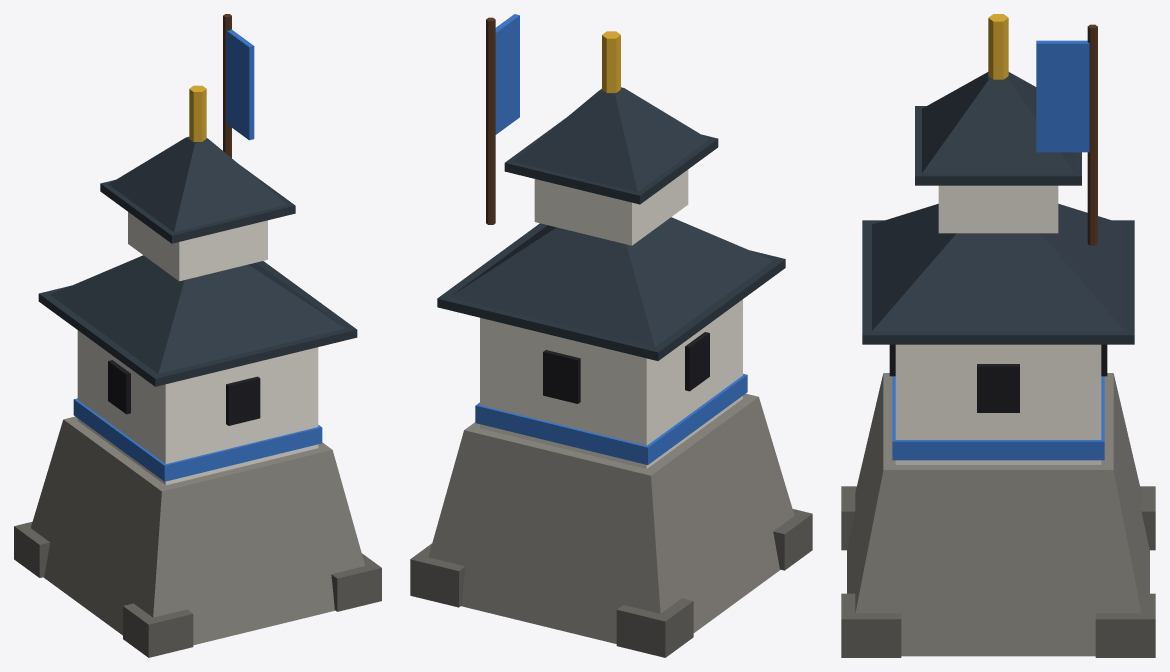
The model's file is yagura.glb.
The picture shows the model from 3 angles, left to right: view 1: azimuth 30°, elevation 25°; view 2: azimuth 150°, elevation 25°; view 3: azimuth 270°, elevation 25°; orthographic projection. The views are drawn at different scales.
Parts seen in each view (by area): view 1: Cone, Cone.001, Cube.004, Cone.002, Cube.011, Cube.010, Cube.005, Cube.002, Cube.013, Cube.012, Cube.003, Cube.007 (+4 smaller); view 2: Cone, Cone.001, Cube.004, Cone.002, Cube.011, Cube.010, Cube.005, Cube.001, Cube.012, Cube.013, Cube, Cylinder.001 (+4 smaller); view 3: Cone, Cone.001, Cube.004, Cone.002, Cube.010, Cube.013, Cube.011, Cube.005, Cube, Cube.003, Cube.012, Cylinder.001 (+4 smaller).
Boxes of the visible parts, box(x1,y1,x2,y2) form: Cone: box(31, 416, 365, 645); Cone.001: box(50, 255, 345, 373); Cube.004: box(77, 330, 318, 485); Cone.002: box(108, 136, 286, 232); Cube.011: box(128, 212, 267, 281); Cube.010: box(38, 261, 357, 386); Cube.005: box(73, 398, 322, 481); Cube.002: box(123, 603, 193, 657); Cube.013: box(226, 29, 254, 140); Cube.012: box(100, 165, 295, 243); Cube.003: box(331, 553, 381, 611); Cube.007: box(226, 376, 260, 425); Cone: box(428, 393, 794, 643); Cone.001: box(450, 217, 772, 347); Cube.004: box(480, 299, 742, 468); Cone.002: box(513, 87, 709, 191); Cube.011: box(534, 169, 688, 245); Cube.010: box(437, 223, 785, 360); Cube.005: box(475, 373, 747, 464); Cube.001: box(616, 598, 693, 657); Cube.012: box(504, 119, 718, 204); Cube.013: box(495, 14, 519, 134); Cube: box(410, 543, 465, 607); Cylinder.001: box(486, 17, 495, 224); Cone: box(847, 373, 1149, 656); Cone.001: box(872, 203, 1124, 331); Cube.004: box(895, 344, 1101, 464); Cone.002: box(922, 72, 1074, 173); Cube.010: box(862, 220, 1134, 344); Cube.013: box(1036, 40, 1089, 152); Cube.011: box(938, 185, 1058, 233); Cube.005: box(892, 376, 1104, 460); Cube: box(1095, 593, 1155, 657); Cube.003: box(841, 593, 901, 657); Cube.012: box(915, 106, 1081, 185); Cylinder.001: box(1087, 24, 1097, 245).
Size of the model in its own units: 1.83 by 3.9 by 1.83.
